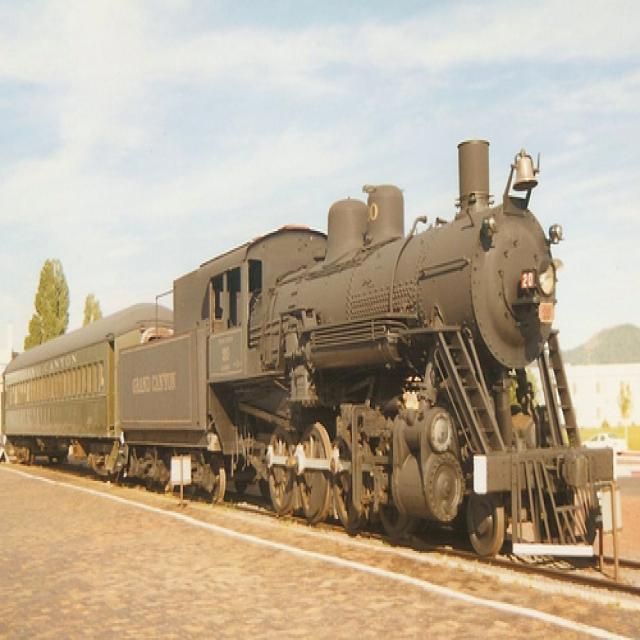car: (582, 433, 628, 459)
train: (4, 134, 619, 567)
